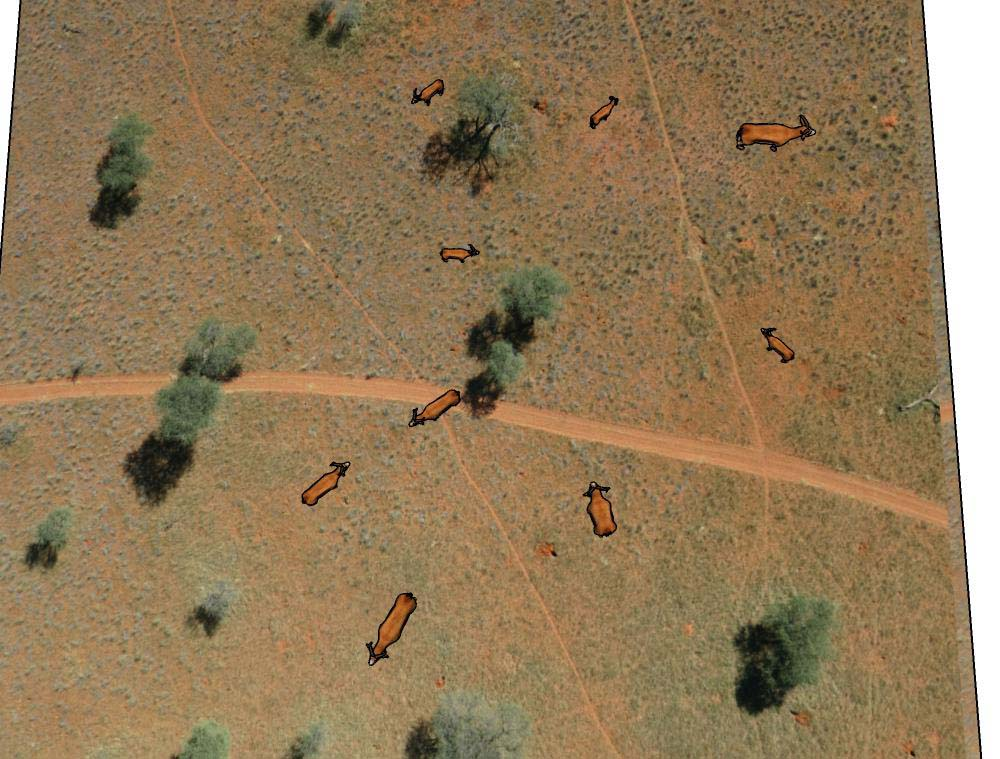springbok: (363, 590, 421, 669), (735, 112, 816, 153), (577, 478, 620, 542), (412, 384, 461, 432), (756, 314, 799, 368), (303, 456, 346, 505), (435, 232, 481, 269), (585, 94, 621, 129), (409, 78, 446, 107)
